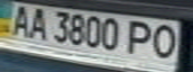0: (100, 16, 127, 52), (84, 14, 103, 50)
3: (48, 9, 72, 44)
8: (66, 11, 87, 47)
A: (6, 2, 36, 38), (24, 6, 51, 42)
O: (148, 22, 184, 61)
P: (124, 18, 160, 56)
